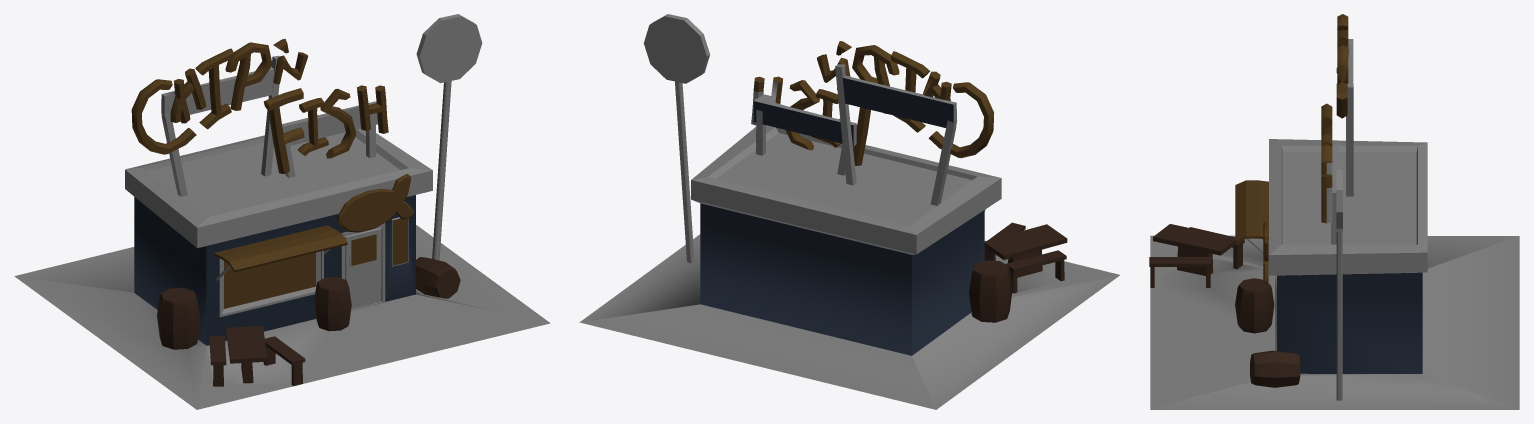
The model's file is chipy.fbx.
The picture shows the model from 3 angles, left to right: view 1: azimuth 30°, elevation 25°; view 2: azimuth 150°, elevation 25°; view 3: azimuth 270°, elevation 25°; orthographic projection.
Visible parts, largest first — view 1: chippy (×4); view 2: chippy (×4); view 3: chippy (×4).
Part boxes in pixels (left/top/right/bottom): chippy (×4): left=14, top=14, right=550, bottom=409; chippy (×4): left=579, top=14, right=1119, bottom=409; chippy (×4): left=1149, top=14, right=1519, bottom=409.
Bounding box in the file's own units: 11.54 × 7.64 × 9.7.
